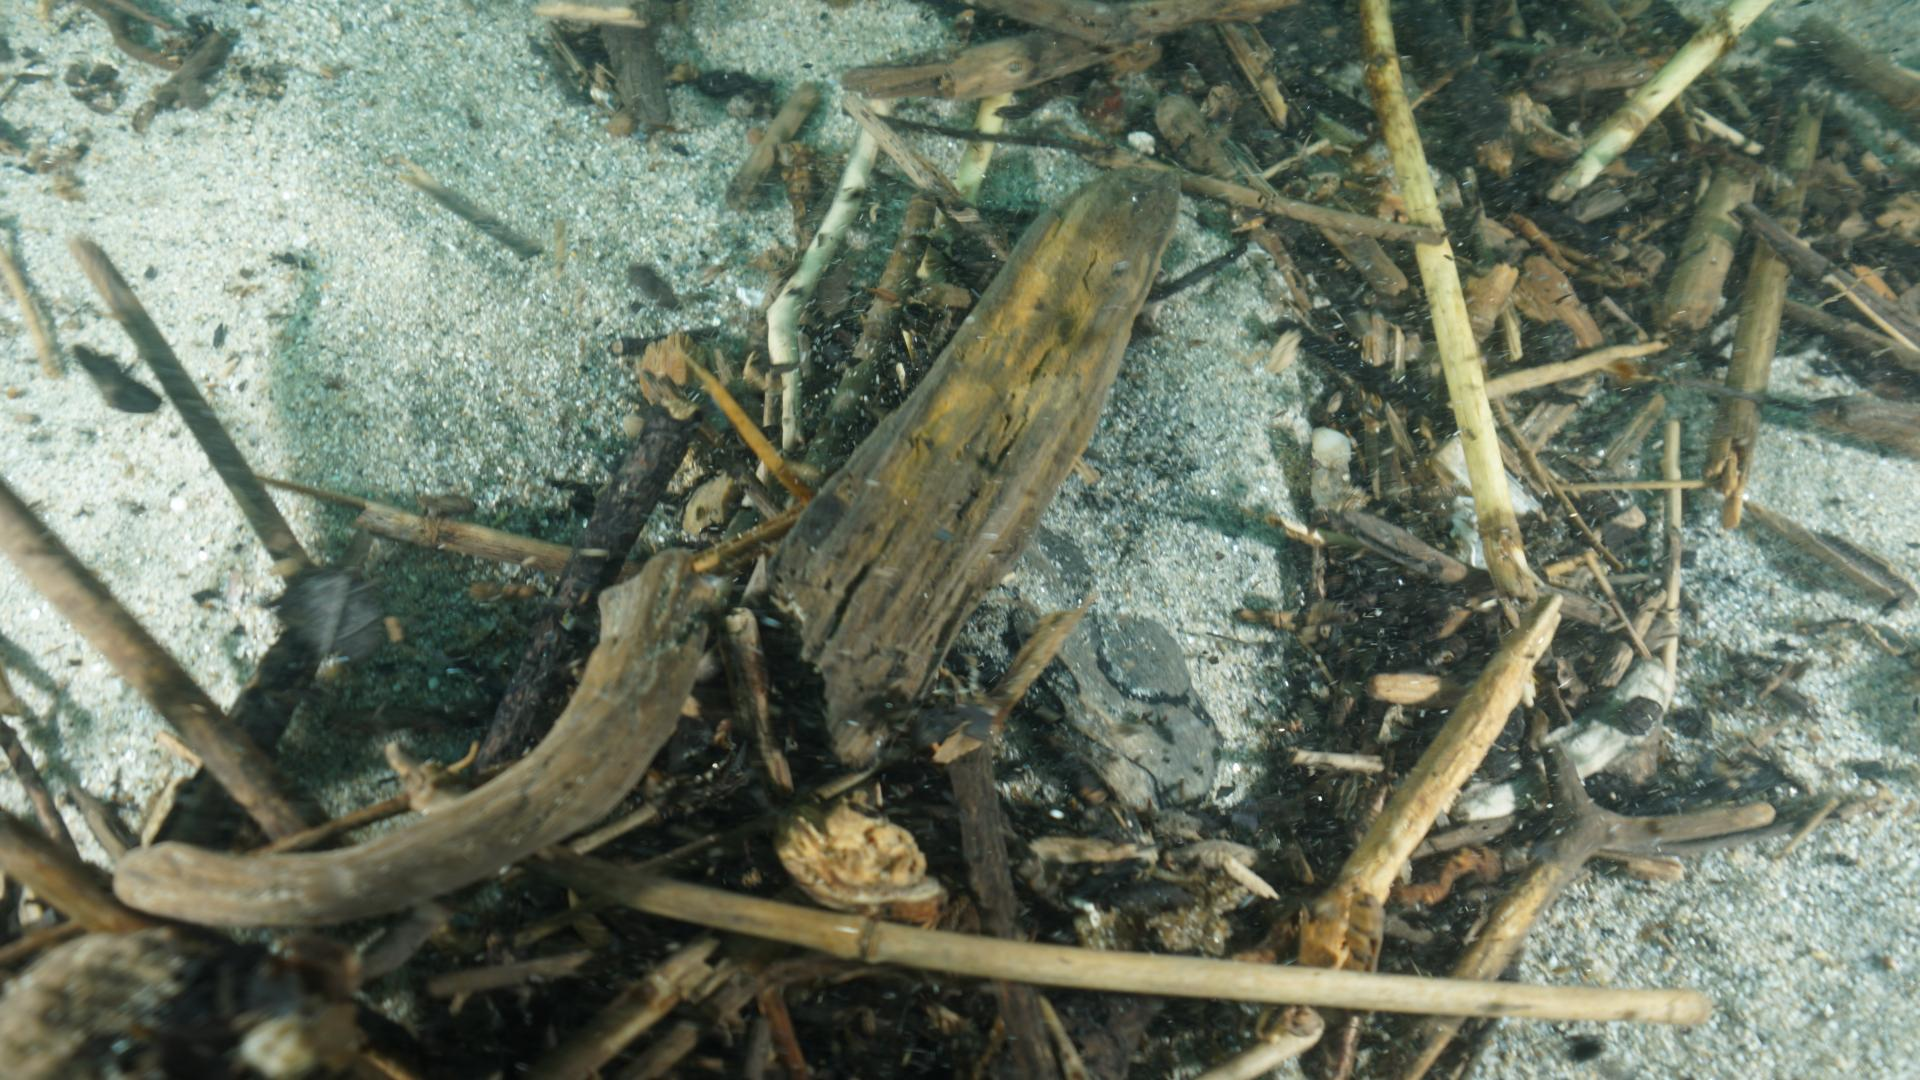wood: (761, 164, 1179, 770), (108, 547, 711, 924)
